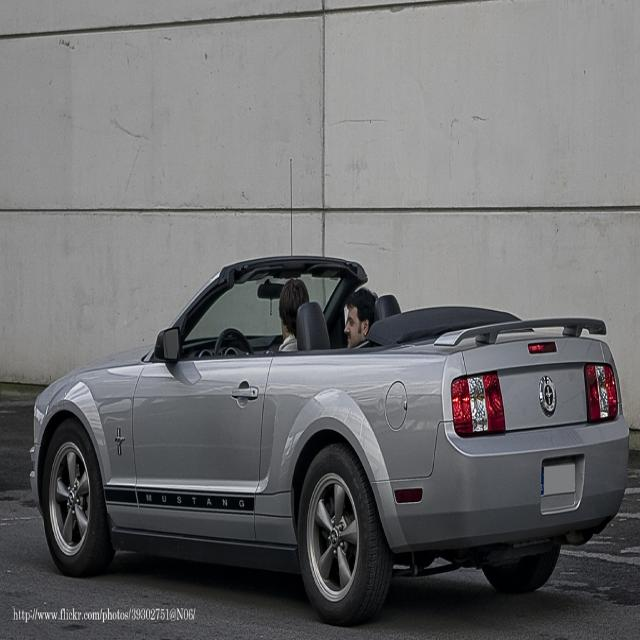car: (30, 161, 632, 631)
